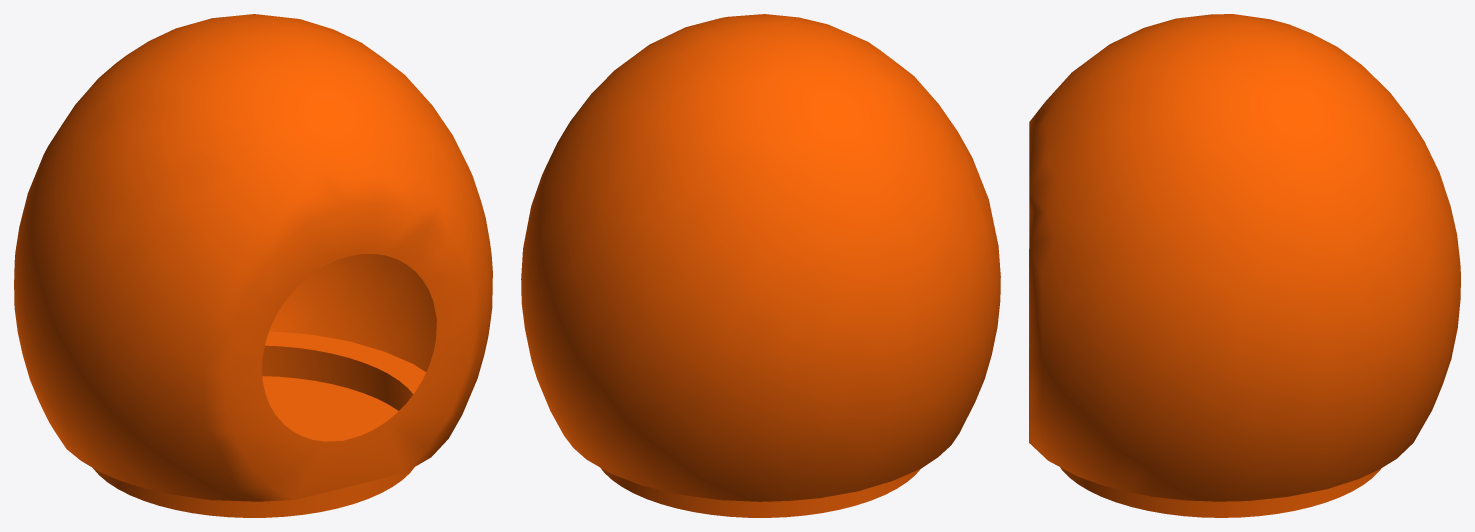
3 views of the same model, side by side, from view 1: azimuth 30°, elevation 25°; view 2: azimuth 150°, elevation 25°; view 3: azimuth 270°, elevation 25° (orthographic).
Parts seen in each view (by area): view 1: link6_object.007; view 2: link6_object.007; view 3: link6_object.007.
Boxes of the visible parts, bbox=[...] form: link6_object.007: bbox=[14, 14, 492, 517]; link6_object.007: bbox=[521, 14, 1000, 517]; link6_object.007: bbox=[1029, 14, 1460, 517].
Bounding box in the file's own units: 0.1422 × 0.1352 × 0.1282.
